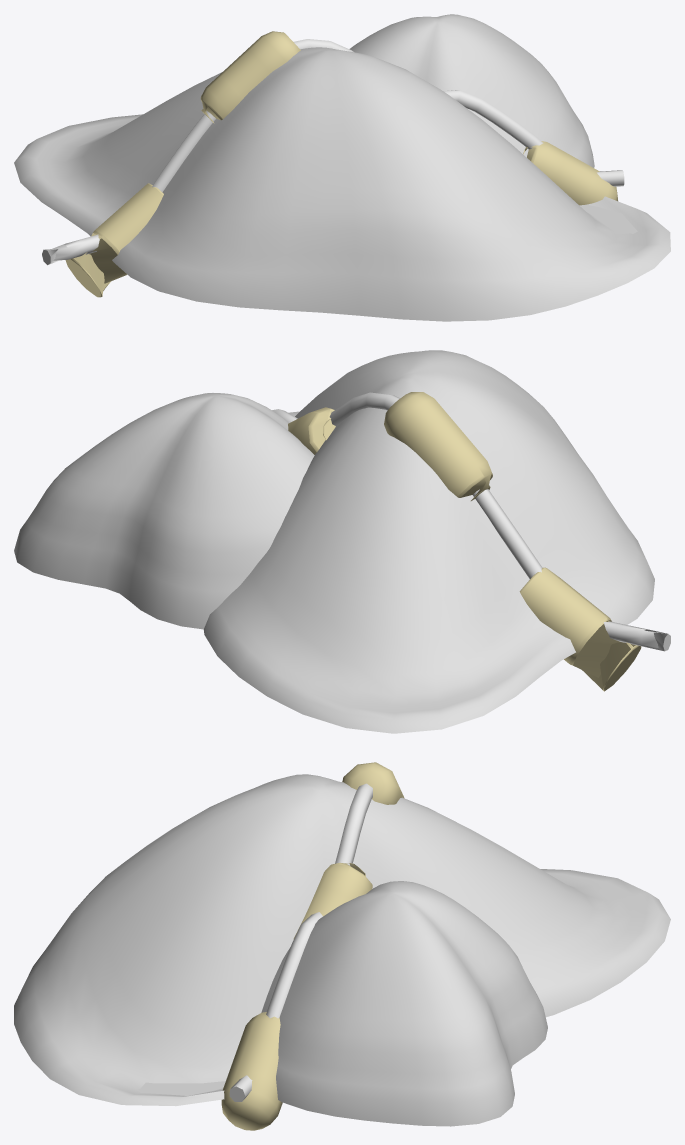
The model's file is propbeach_net_pile_1.glb.
The picture shows the model from 3 angles, top to bottom: view 1: azimuth 30°, elevation 25°; view 2: azimuth 150°, elevation 25°; view 3: azimuth 270°, elevation 25°; orthographic projection. The views are drawn at different scales.
Parts seen in each view (by area): view 1: pb_net_pile_1_pb_net, pb_net_pile_1_bamboo, pb_net_pile_1_pb_rope; view 2: pb_net_pile_1_pb_net, pb_net_pile_1_bamboo, pb_net_pile_1_pb_rope; view 3: pb_net_pile_1_pb_net, pb_net_pile_1_bamboo, pb_net_pile_1_pb_rope.
Boxes of the visible parts, box(x1,y1,x2,y2) form: pb_net_pile_1_pb_net: box(14, 14, 670, 321); pb_net_pile_1_bamboo: box(65, 31, 617, 297); pb_net_pile_1_pb_rope: box(42, 39, 624, 265); pb_net_pile_1_pb_net: box(14, 350, 654, 733); pb_net_pile_1_bamboo: box(288, 392, 641, 691); pb_net_pile_1_pb_rope: box(272, 392, 670, 651); pb_net_pile_1_pb_net: box(14, 774, 670, 1126); pb_net_pile_1_bamboo: box(221, 762, 404, 1130); pb_net_pile_1_pb_rope: box(229, 783, 372, 1101).
Bounding box in the file's own units: 1.67 × 0.6426 × 1.61.
